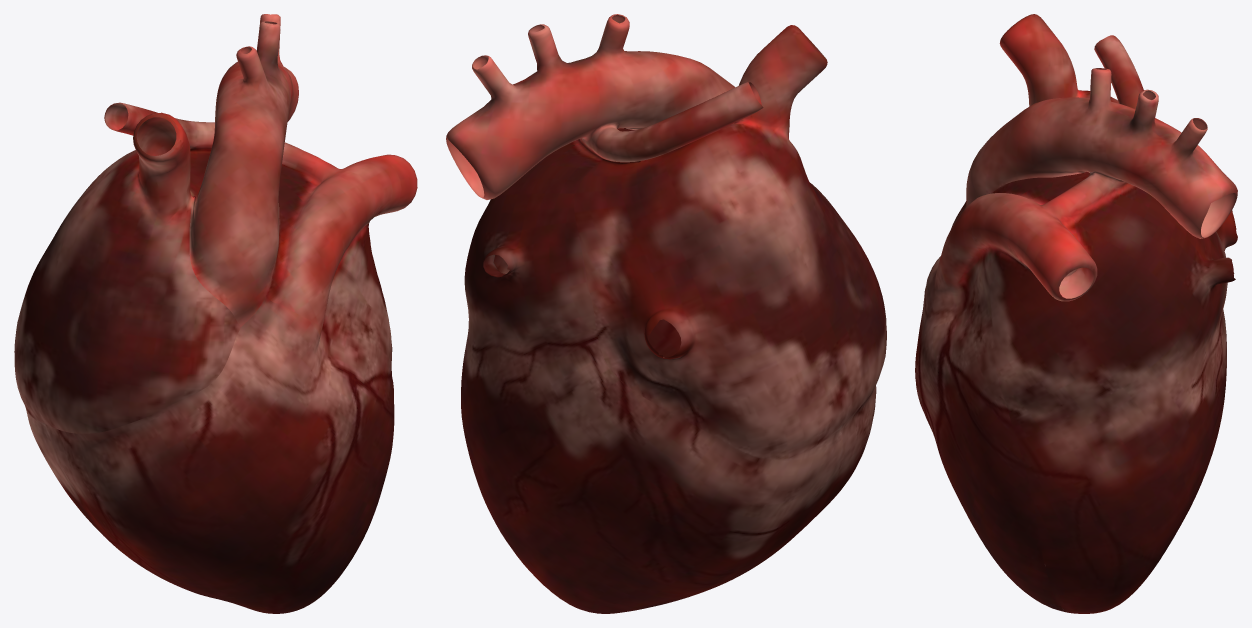
File: realistic-heart.glb
The picture shows the model from 3 angles, left to right: view 1: azimuth 30°, elevation 25°; view 2: azimuth 150°, elevation 25°; view 3: azimuth 270°, elevation 25°; orthographic projection. The views are drawn at different scales.
Parts seen in each view (by area): view 1: Heart; view 2: Heart; view 3: Heart.
Part boxes in pixels (left/top/right/bottom): Heart: left=14, top=14, right=417, bottom=613; Heart: left=446, top=14, right=886, bottom=613; Heart: left=915, top=14, right=1237, bottom=613.
Size of the model in its own units: 0.2171 by 0.3211 by 0.1764.
1 material, 1 textured.
